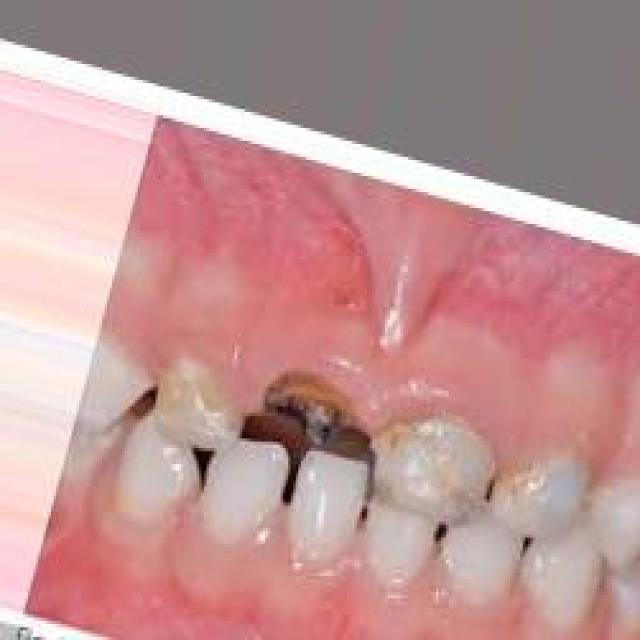caries: (367, 404, 488, 532), (151, 359, 254, 466), (262, 359, 350, 452)
